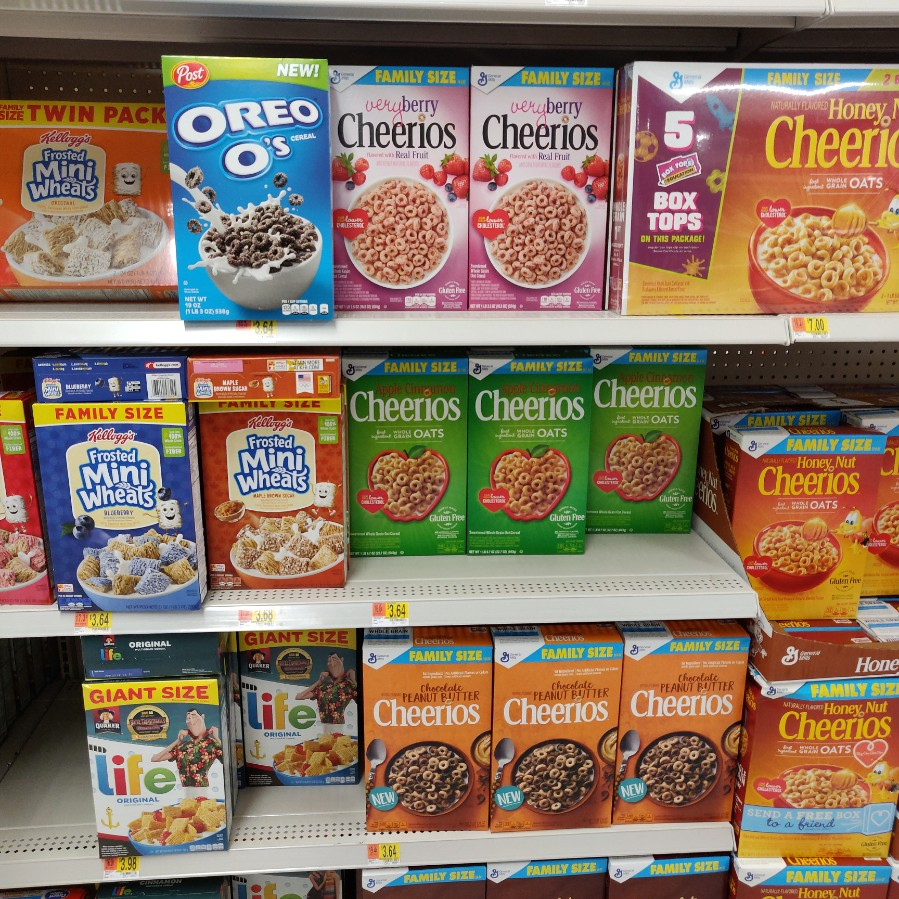Oreo-563424384: (166, 53, 341, 324)
